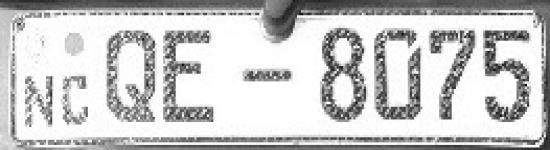-: (241, 66, 293, 87)
0: (371, 23, 424, 126)
5: (481, 26, 533, 127)
7: (428, 25, 480, 124)
8: (317, 26, 370, 124)
C: (58, 71, 94, 130)
E: (160, 24, 216, 128)
N: (20, 72, 56, 130)
Q: (102, 22, 158, 129)
